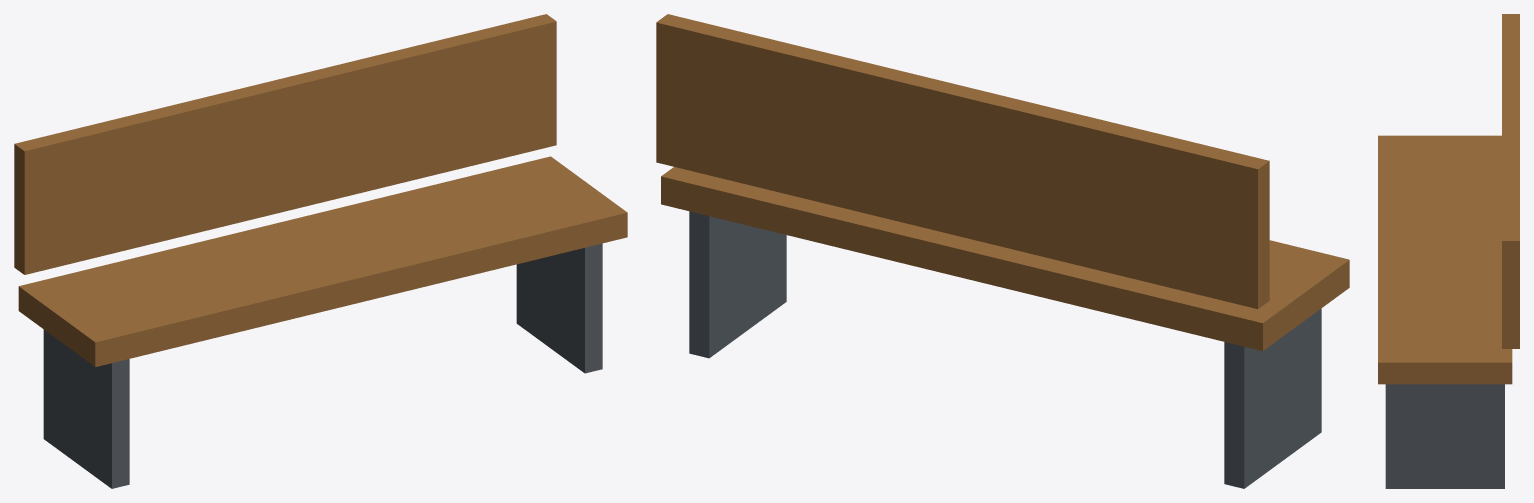
File: bench.glb
3 views of the same model, side by side, from view 1: azimuth 30°, elevation 25°; view 2: azimuth 150°, elevation 25°; view 3: azimuth 270°, elevation 25° (orthographic). The views are drawn at different scales.
Size of the model in its own units: 1.8 by 0.95 by 0.475.
